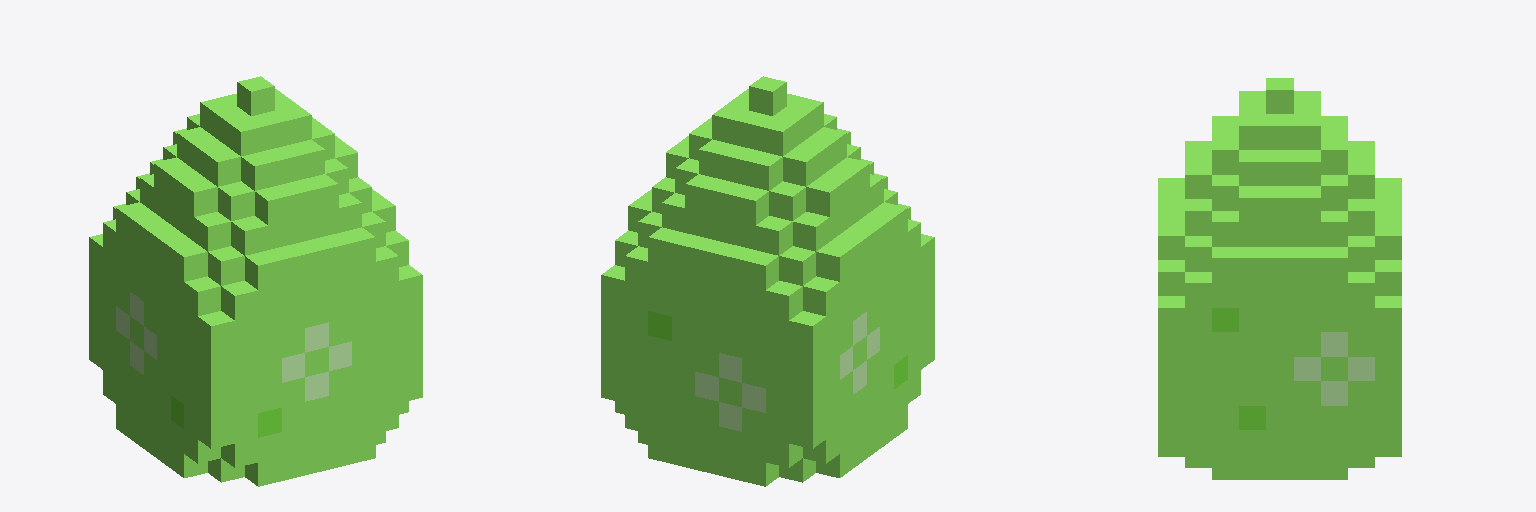
3 views of the same model, side by side, from view 1: azimuth 30°, elevation 25°; view 2: azimuth 150°, elevation 25°; view 3: azimuth 270°, elevation 25° (orthographic).
Visible parts, largest first — view 1: Box_5; view 2: Box_5; view 3: Box_5.
Boxes of the visible parts, x1,y1,x2,y2 form: Box_5: [89, 76, 422, 486]; Box_5: [601, 76, 934, 486]; Box_5: [1158, 78, 1401, 479].
Bounding box in the file's own units: 9 × 14 × 9.
Materials: 1 (1 with a texture image).